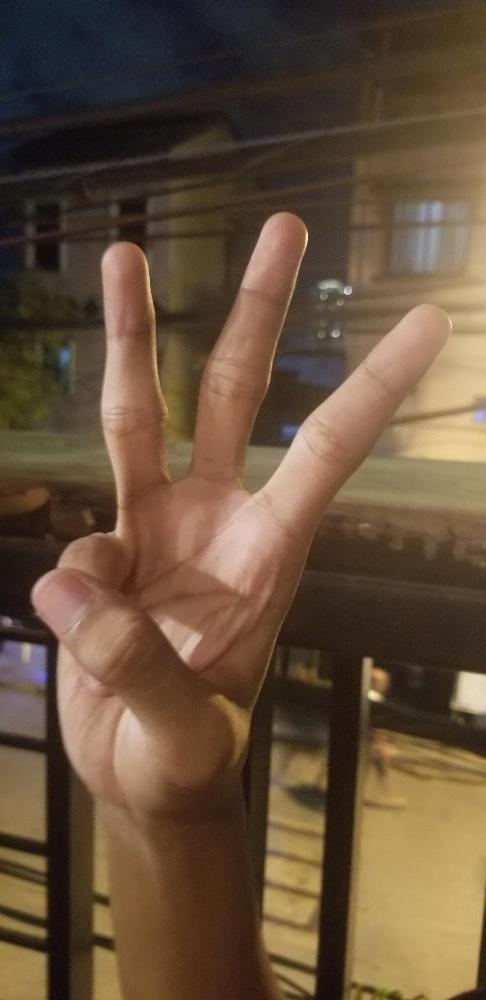w: (26, 207, 455, 814)
